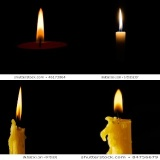fire: (35, 7, 46, 39), (113, 88, 124, 111), (15, 85, 22, 117), (118, 7, 123, 31)
